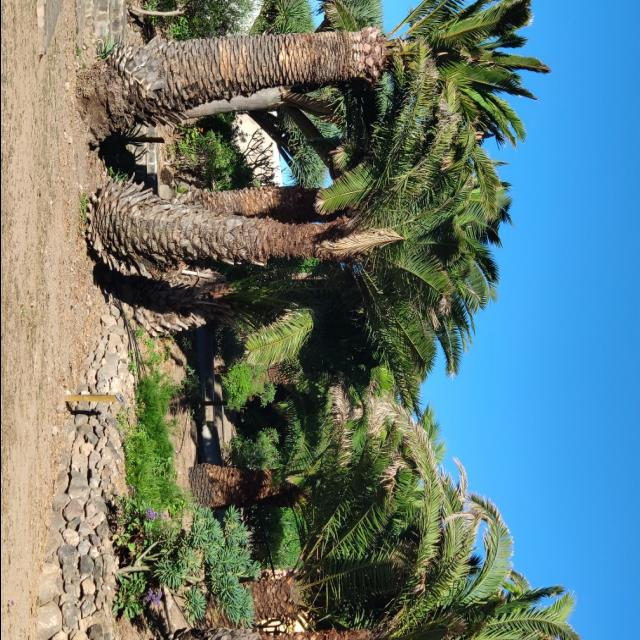Palm-Trees: (71, 135, 512, 413), (78, 0, 542, 166), (200, 464, 446, 636), (188, 398, 446, 562)
